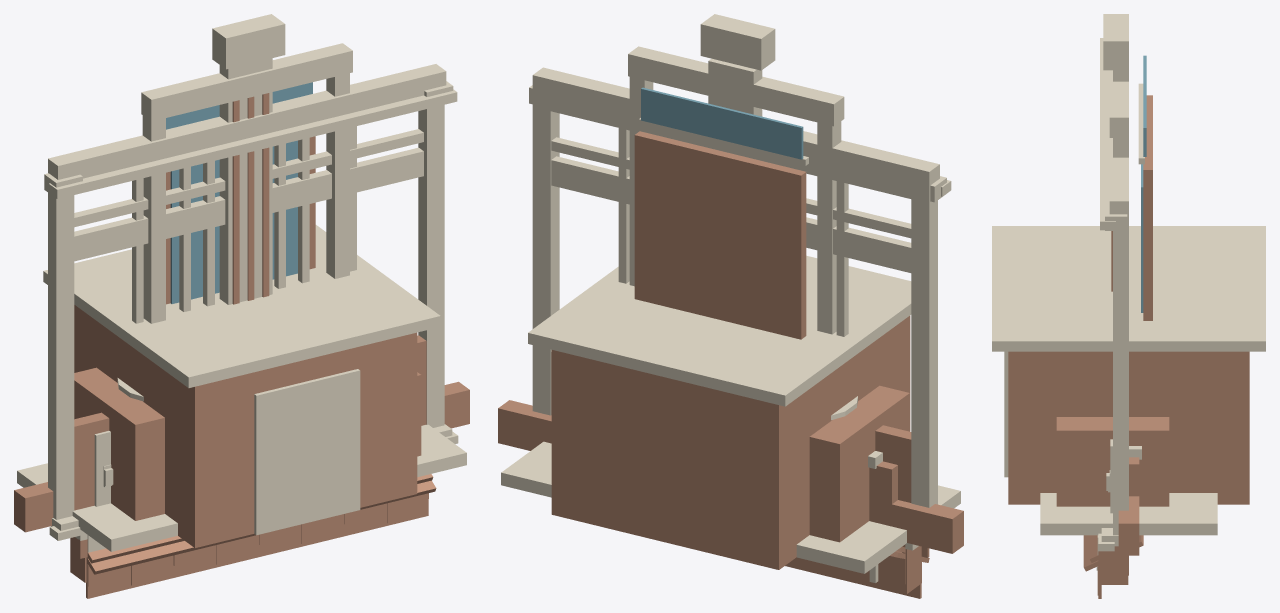
The model's file is shop-kit.glb.
3 views of the same model, side by side, from view 1: azimuth 30°, elevation 25°; view 2: azimuth 150°, elevation 25°; view 3: azimuth 270°, elevation 25° (orthographic). The views are drawn at different scales.
Visible parts, largest first — view 1: roof_hatch_03__body, roof_hatch_03__slab, roof_hatch_03__door, storefront_capital_04__head, storefront_broad_02__jamb, roof_ac_cluster_05__unit, storefront_broad_02__jamb.001, entry_door_full_glass_02__head, pilaster_fluted_02__shaft, storefront_broad_02__head_drip, roof_ac_cluster_05__rail, storefront_slim_iron_03__transom (+33 smaller); view 2: roof_hatch_03__body, entry_door_full_glass_02__leaf, roof_hatch_03__slab, roof_ac_cluster_05__unit, storefront_broad_02__jamb, storefront_capital_04__head, storefront_broad_02__jamb.001, entry_door_full_glass_02__head, roof_ac_cluster_05__rail, roof_pediment_01__step, entry_door_full_glass_02__fanlight, entry_door_full_glass_02__jamb (+18 smaller); view 3: roof_hatch_03__slab, roof_hatch_03__body, roof_ac_cluster_05__unit.001, roof_ac_cluster_05__rail, storefront_broad_02__jamb.001, entry_door_full_glass_02__leaf, storefront_broad_02__head_drip, pilaster_fluted_02__capital, entry_door_full_glass_02__head, storefront_capital_04__head, roof_pediment_01__step, awning_slope_01__cheek.001 (+5 smaller).
Boxes of the visible parts, left/top/right/bottom form: roof_hatch_03__body: left=74, top=305, right=417, bottom=547; roof_hatch_03__slab: left=43, top=225, right=440, bottom=387; roof_hatch_03__door: left=254, top=369, right=360, bottom=535; storefront_capital_04__head: left=48, top=64, right=446, bottom=179; storefront_broad_02__jamb: left=48, top=166, right=74, bottom=519; roof_ac_cluster_05__unit: left=74, top=367, right=164, bottom=520; storefront_broad_02__jamb.001: left=418, top=104, right=444, bottom=427; entry_door_full_glass_02__head: left=141, top=43, right=352, bottom=121; pilaster_fluted_02__shaft: left=219, top=58, right=272, bottom=304; storefront_broad_02__head_drip: left=48, top=89, right=457, bottom=198; roof_ac_cluster_05__rail: left=17, top=424, right=466, bottom=551; storefront_slim_iron_03__transom: left=74, top=129, right=423, bottom=227; roof_hatch_03__body: left=551, top=315, right=910, bottom=569; entry_door_full_glass_02__leaf: left=634, top=131, right=806, bottom=339; roof_hatch_03__slab: left=528, top=255, right=911, bottom=406; roof_ac_cluster_05__unit: left=809, top=385, right=909, bottom=542; storefront_broad_02__jamb: left=911, top=172, right=937, bottom=507; storefront_capital_04__head: left=532, top=67, right=939, bottom=203; storefront_broad_02__jamb.001: left=532, top=83, right=559, bottom=415; entry_door_full_glass_02__head: left=628, top=46, right=844, bottom=126; roof_ac_cluster_05__rail: left=501, top=441, right=960, bottom=573; roof_pediment_01__step: left=498, top=400, right=963, bottom=553; entry_door_full_glass_02__fanlight: left=641, top=87, right=803, bottom=159; entry_door_full_glass_02__jamb: left=817, top=119, right=841, bottom=334; roof_hatch_03__slab: left=992, top=226, right=1265, bottom=351; roof_hatch_03__body: left=1008, top=351, right=1249, bottom=504; roof_ac_cluster_05__unit.001: left=1056, top=417, right=1169, bottom=506; roof_ac_cluster_05__rail: left=1040, top=493, right=1217, bottom=535; storefront_broad_02__jamb.001: left=1113, top=207, right=1128, bottom=535; entry_door_full_glass_02__leaf: left=1143, top=95, right=1152, bottom=320; storefront_broad_02__head_drip: left=1100, top=38, right=1115, bottom=230; pilaster_fluted_02__capital: left=1103, top=14, right=1128, bottom=70; entry_door_full_glass_02__head: left=1109, top=70, right=1128, bottom=137; storefront_capital_04__head: left=1109, top=138, right=1128, bottom=230; roof_pediment_01__step: left=1118, top=496, right=1139, bottom=555; awning_slope_01__cheek.001: left=1100, top=546, right=1128, bottom=584.
Size of the model in its own units: 3 by 3.38 by 1.7.
